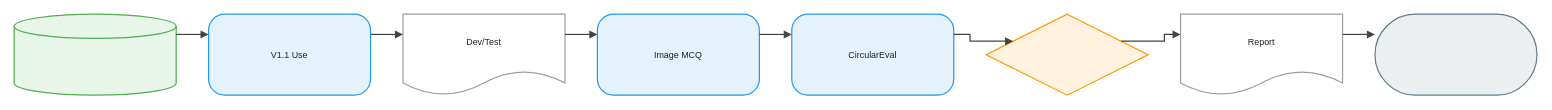
Some shapes in this 1552 by 110 pixel diagram are drawn without their labels. Each missing label, with the centre of its shape:
Accuracy: (1455,54)
Base Items: (94,54)
Extract: (1066,54)
